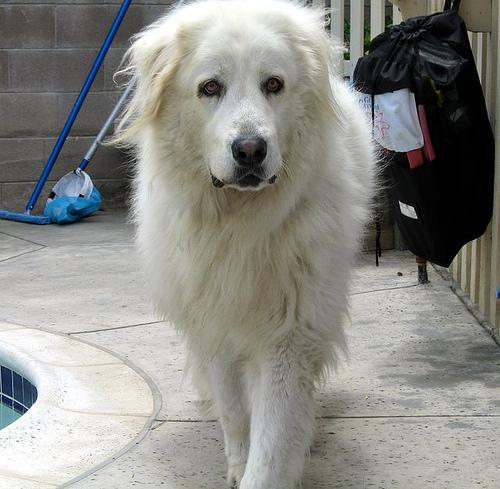dog-great_pyrenees: (132, 0, 329, 191)
